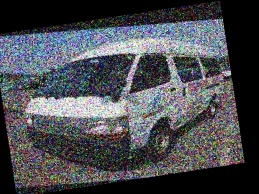van: (10, 14, 243, 187)
